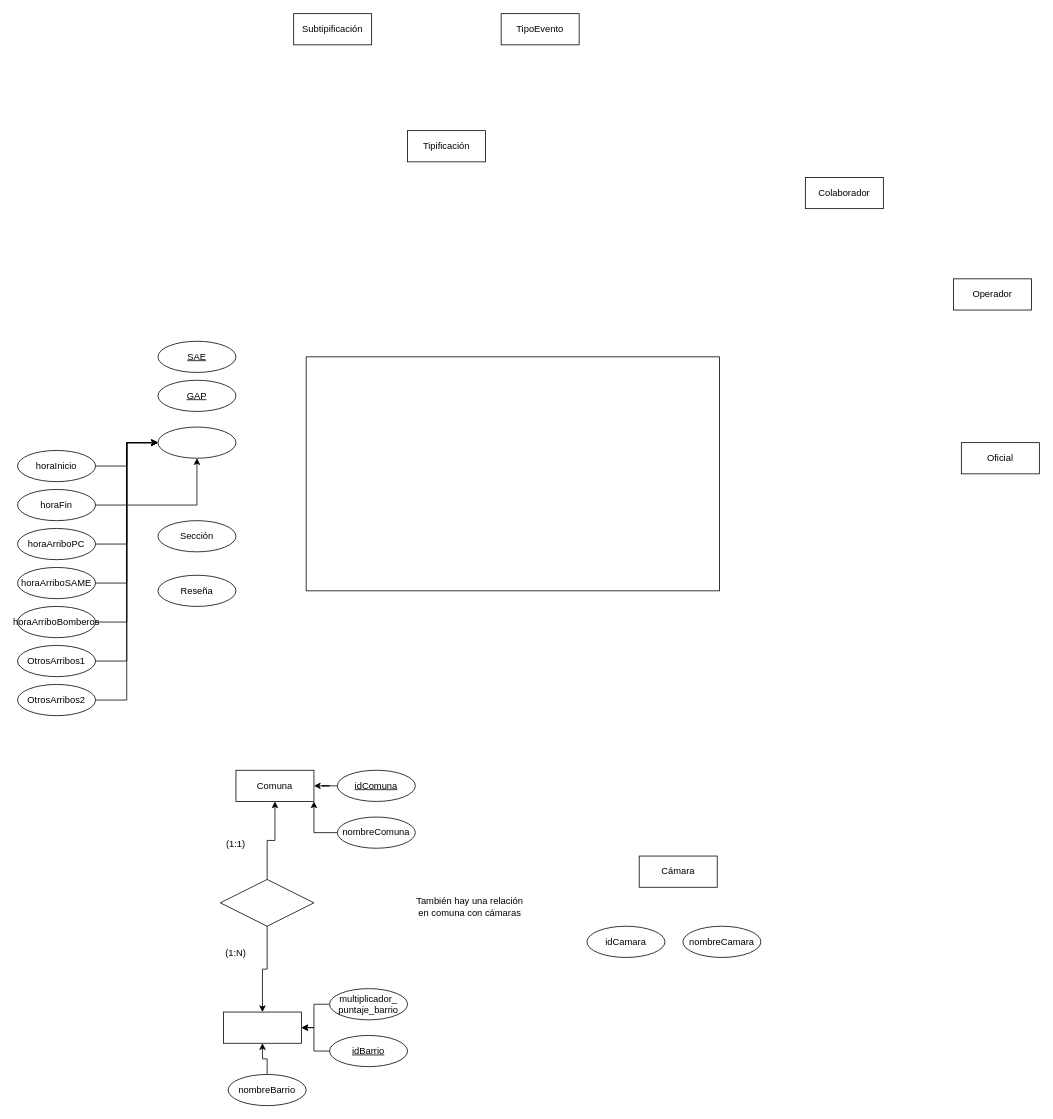
Image size: 1053x1119. Some labels were removed from this diagram. The centre of each missing label's shape, as x and y in pixels:
"Barrio" goes at point 262,1027.
"Evento" goes at point 512,473.
"Horarios" goes at point 196,442.
"Pertenece" goes at point 267,902.
